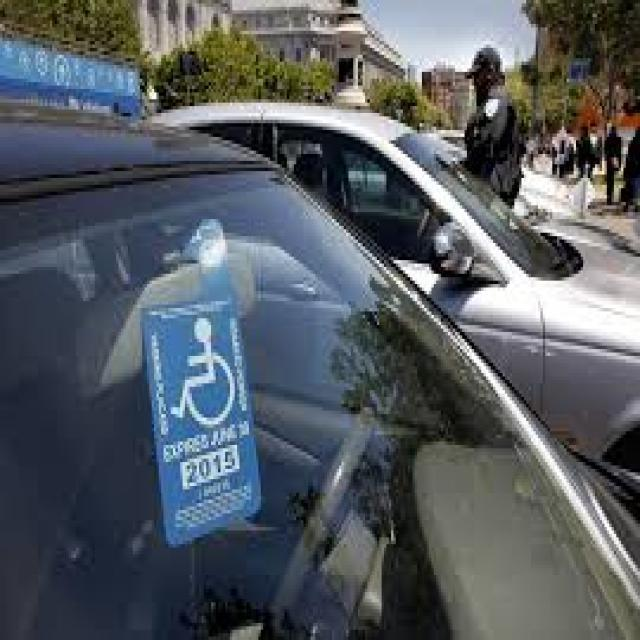symbol_of_access: (175, 320, 235, 427)
